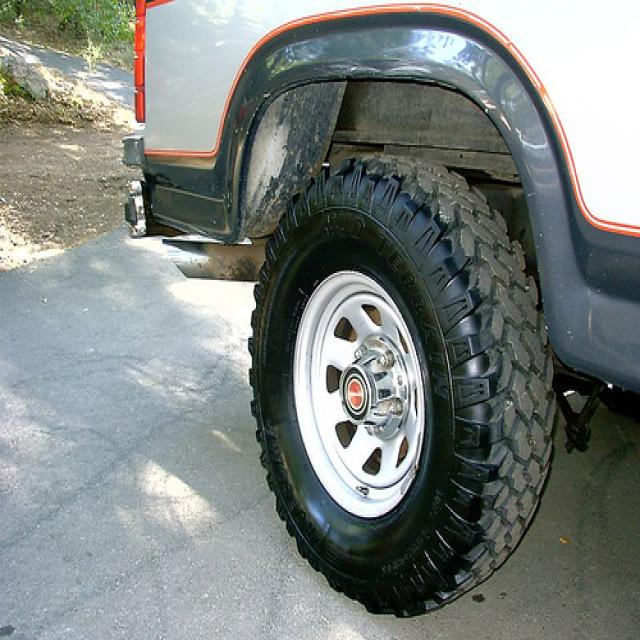car: (123, 1, 640, 619)
